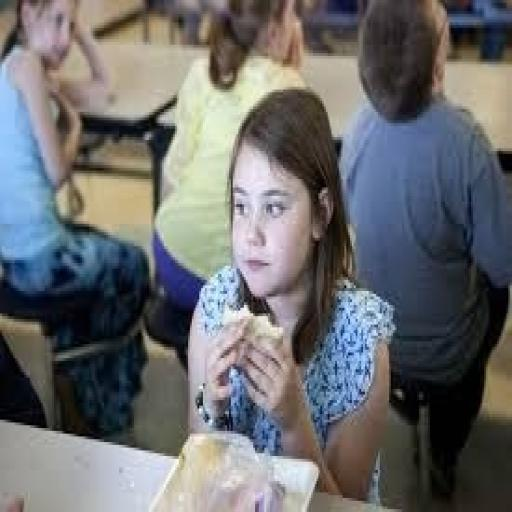eating: (184, 84, 396, 501), (335, 0, 510, 498), (0, 0, 152, 436)
